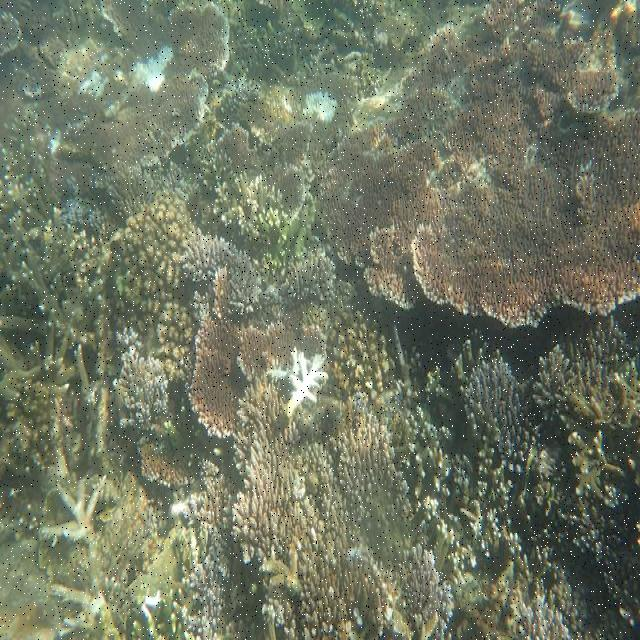reefs: (232, 280, 639, 639), (217, 0, 639, 328), (0, 0, 229, 179), (189, 272, 324, 441), (114, 189, 198, 382), (183, 237, 337, 313)
